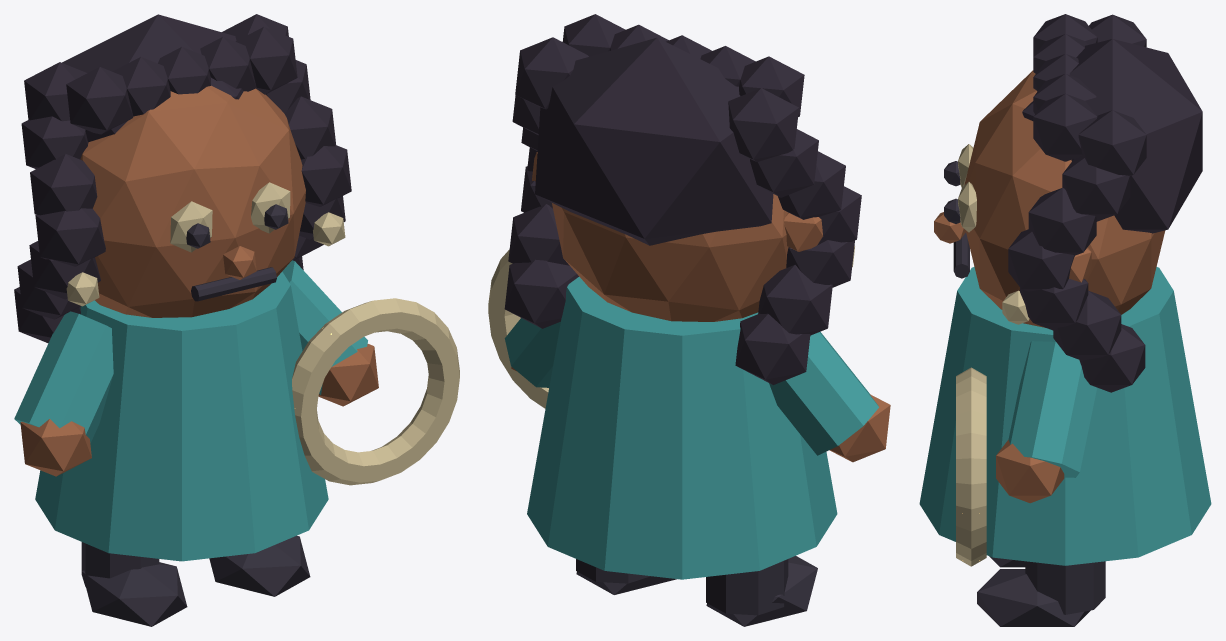
Rendered from selena-moon-musician.glb.
3 views of the same model, side by side, from view 1: azimuth 30°, elevation 25°; view 2: azimuth 150°, elevation 25°; view 3: azimuth 270°, elevation 25° (orthographic). The views are drawn at different scales.
Visible parts, largest first — view 1: Costume torso.009, Head.009, Hair cap.009, Eye white.006, Boot leg.006; view 2: Costume torso.009, Hair cap.009, Head.009, Boot leg.006, Eye white.006; view 3: Costume torso.009, Hair cap.009, Head.009, Boot leg.006, Eye white.006.
Part boxes in pixels (<box>): Costume torso.009: <box>14,260,367,561</box>; Head.009: <box>20,85,378,476</box>; Hair cap.009: <box>14,14,351,343</box>; Eye white.006: <box>66,182,459,485</box>; Boot leg.006: <box>81,204,310,626</box>; Costume torso.009: <box>504,276,878,579</box>; Hair cap.009: <box>504,14,861,385</box>; Head.009: <box>511,152,890,462</box>; Boot leg.006: <box>576,556,817,626</box>; Eye white.006: <box>488,246,854,408</box>; Costume torso.009: <box>919,267,1211,565</box>; Hair cap.009: <box>1008,14,1202,392</box>; Head.009: <box>934,70,1165,503</box>; Boot leg.006: <box>944,161,1105,626</box>; Eye white.006: <box>956,144,1029,566</box>.
Bounding box in the file's own units: 0.0198 × 0.0261 × 0.0124.
